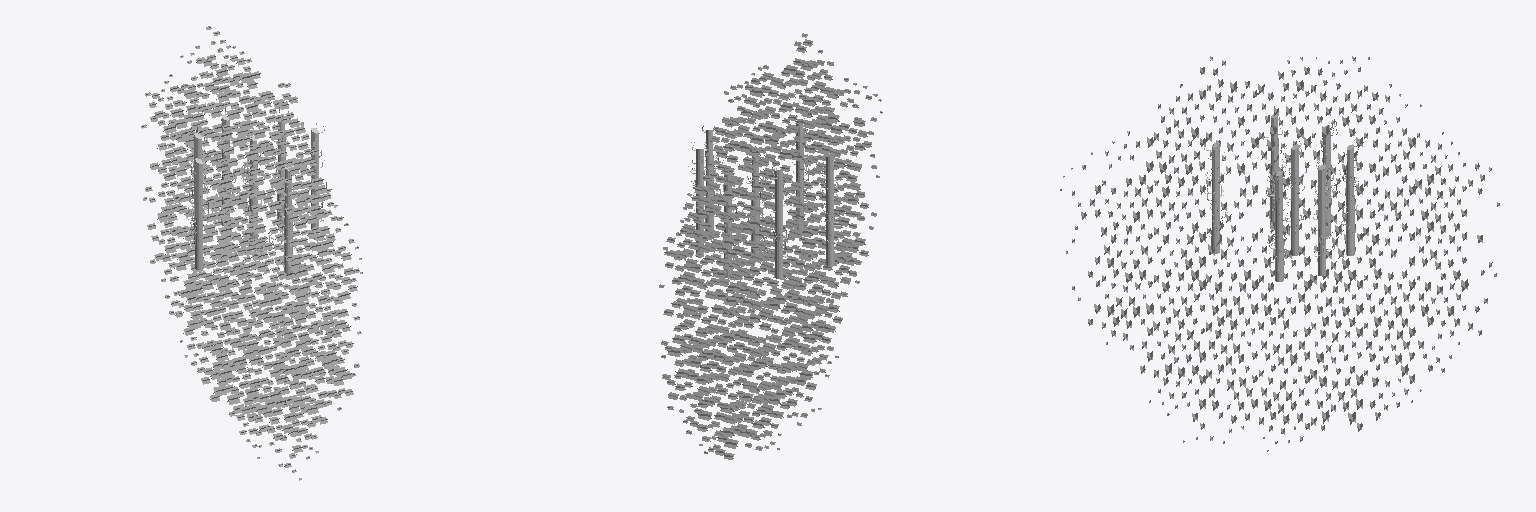
The model's file is Ross128bTrees.obj.
3 renders of one model, left to right at view 1: azimuth 30°, elevation 25°; view 2: azimuth 150°, elevation 25°; view 3: azimuth 270°, elevation 25°, orthographic.
Visible parts, largest first — view 1: Plant.001_Plane.005, Tree.005_Cylinder.010; view 2: Plant.001_Plane.005, Tree.005_Cylinder.010; view 3: Plant.001_Plane.005, Tree.005_Cylinder.010.
Boxes of the visible parts, x1=… form: Plant.001_Plane.005: x1=141, y1=26, x2=362, y2=480; Tree.005_Cylinder.010: x1=186, y1=107, x2=326, y2=275; Plant.001_Plane.005: x1=659, y1=33, x2=882, y2=459; Tree.005_Cylinder.010: x1=688, y1=115, x2=842, y2=278; Plant.001_Plane.005: x1=1060, y1=56, x2=1499, y2=451; Tree.005_Cylinder.010: x1=1204, y1=106, x2=1361, y2=281.
Size of the model in its own units: 37.13 by 100 by 101.